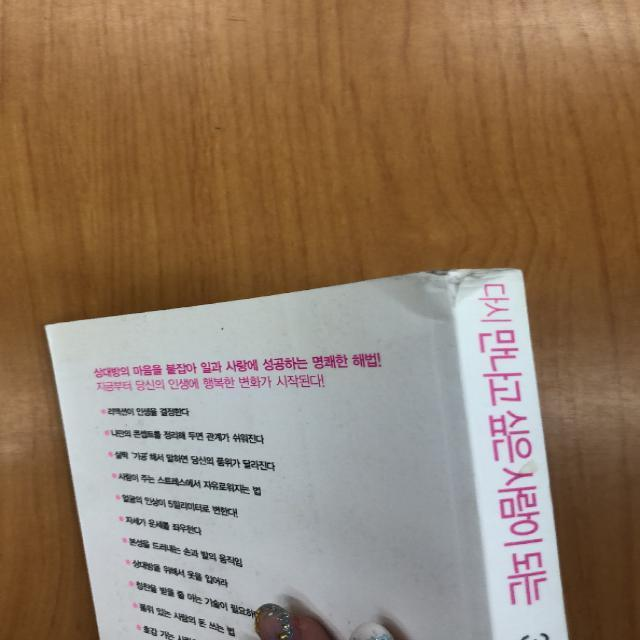Ripped: (380, 267, 523, 323)
